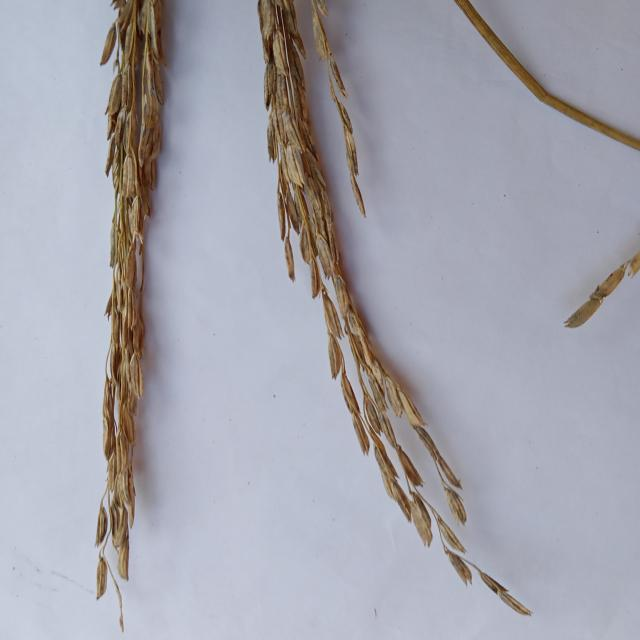Neck_Blast: (259, 1, 413, 427), (95, 5, 162, 572)
